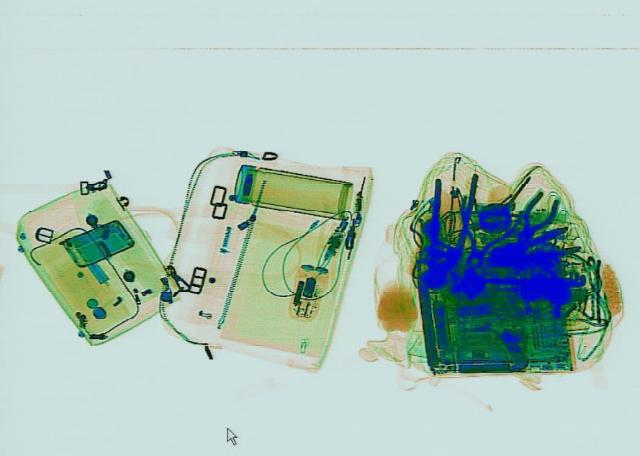Pliers: (434, 195, 528, 275), (419, 170, 477, 286), (489, 224, 583, 268), (506, 188, 564, 244)
